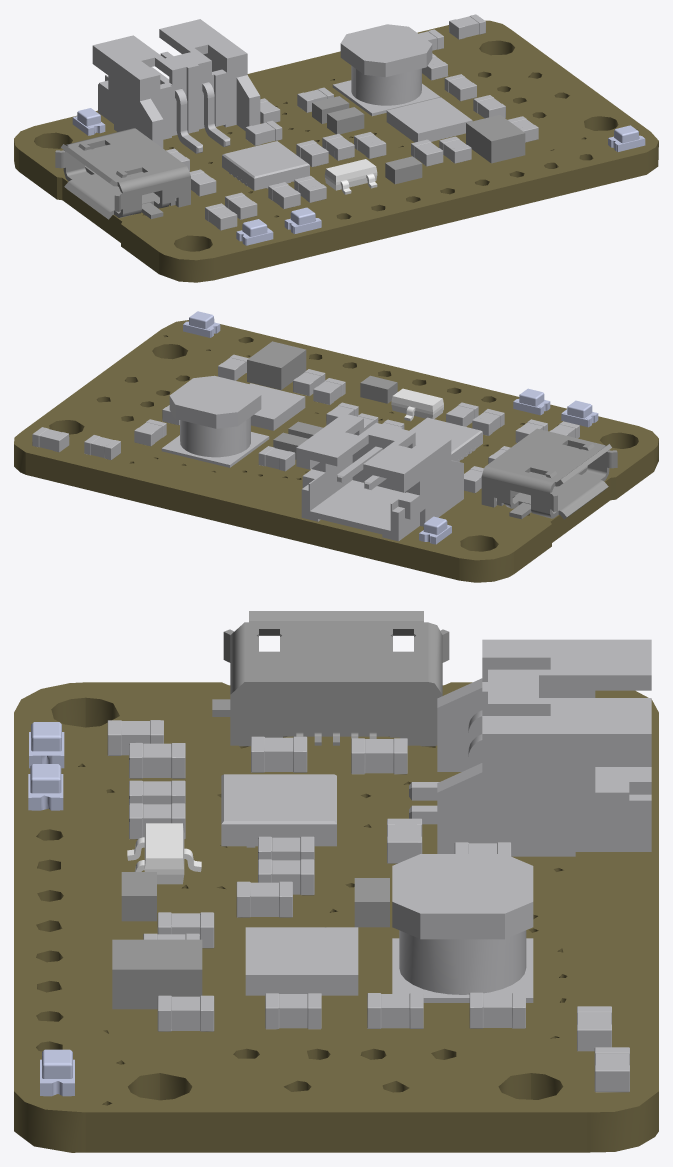
Rendered from ada-2465.glb.
The picture shows the model from 3 angles, top to bottom: view 1: azimuth 30°, elevation 25°; view 2: azimuth 150°, elevation 25°; view 3: azimuth 270°, elevation 25°; orthographic projection. The views are drawn at different scales.
Parts seen in each view (by area): view 1: 0.16666666666666666_0.16666666666666666_0.08333333333333333_, 0.5833333333333334_0.5833333333333334_0.5833333333333334_0.8, 0.3333333333333333_0.3333333333333333_0.3333333333333333_0, 0.5833333333333334_0.6666666666666666_0.8333333333333334_0, 0.9166666666666666_0.9166666666666666_0.9166666666666666_0.8; view 2: 0.16666666666666666_0.16666666666666666_0.08333333333333333_, 0.5833333333333334_0.5833333333333334_0.5833333333333334_0.8, 0.3333333333333333_0.3333333333333333_0.3333333333333333_0, 0.5833333333333334_0.6666666666666666_0.8333333333333334_0, 0.9166666666666666_0.9166666666666666_0.9166666666666666_0.8; view 3: 0.16666666666666666_0.16666666666666666_0.08333333333333333_, 0.5833333333333334_0.5833333333333334_0.5833333333333334_0.8, 0.3333333333333333_0.3333333333333333_0.3333333333333333_0, 0.5833333333333334_0.6666666666666666_0.8333333333333334_0, 0.9166666666666666_0.9166666666666666_0.9166666666666666_0.8.
Part boxes in pixels (x1,y1,x2,y2): 0.16666666666666666_0.16666666666666666_0.08333333333333333_: [14, 20, 658, 282]; 0.5833333333333334_0.5833333333333334_0.5833333333333334_0.8: [92, 14, 538, 230]; 0.3333333333333333_0.3333333333333333_0.3333333333333333_0: [55, 96, 525, 219]; 0.5833333333333334_0.6666666666666666_0.8333333333333334_0: [72, 108, 645, 245]; 0.9166666666666666_0.9166666666666666_0.9166666666666666_0.8: [324, 159, 377, 194]; 0.16666666666666666_0.16666666666666666_0.08333333333333333_: [14, 320, 658, 582]; 0.5833333333333334_0.5833333333333334_0.5833333333333334_0.8: [32, 354, 579, 541]; 0.3333333333333333_0.3333333333333333_0.3333333333333333_0: [247, 341, 617, 519]; 0.5833333333333334_0.6666666666666666_0.8333333333333334_0: [183, 311, 598, 544]; 0.9166666666666666_0.9166666666666666_0.9166666666666666_0.8: [391, 388, 443, 421]; 0.16666666666666666_0.16666666666666666_0.08333333333333333_: [14, 682, 658, 1152]; 0.5833333333333334_0.5833333333333334_0.5833333333333334_0.8: [107, 639, 651, 1092]; 0.3333333333333333_0.3333333333333333_0.3333333333333333_0: [112, 611, 449, 1009]; 0.5833333333333334_0.6666666666666666_0.8333333333333334_0: [28, 722, 74, 1096]; 0.9166666666666666_0.9166666666666666_0.9166666666666666_0.8: [127, 823, 201, 884].
Size of the model in its own units: 3.64 by 0.637 by 2.29.
